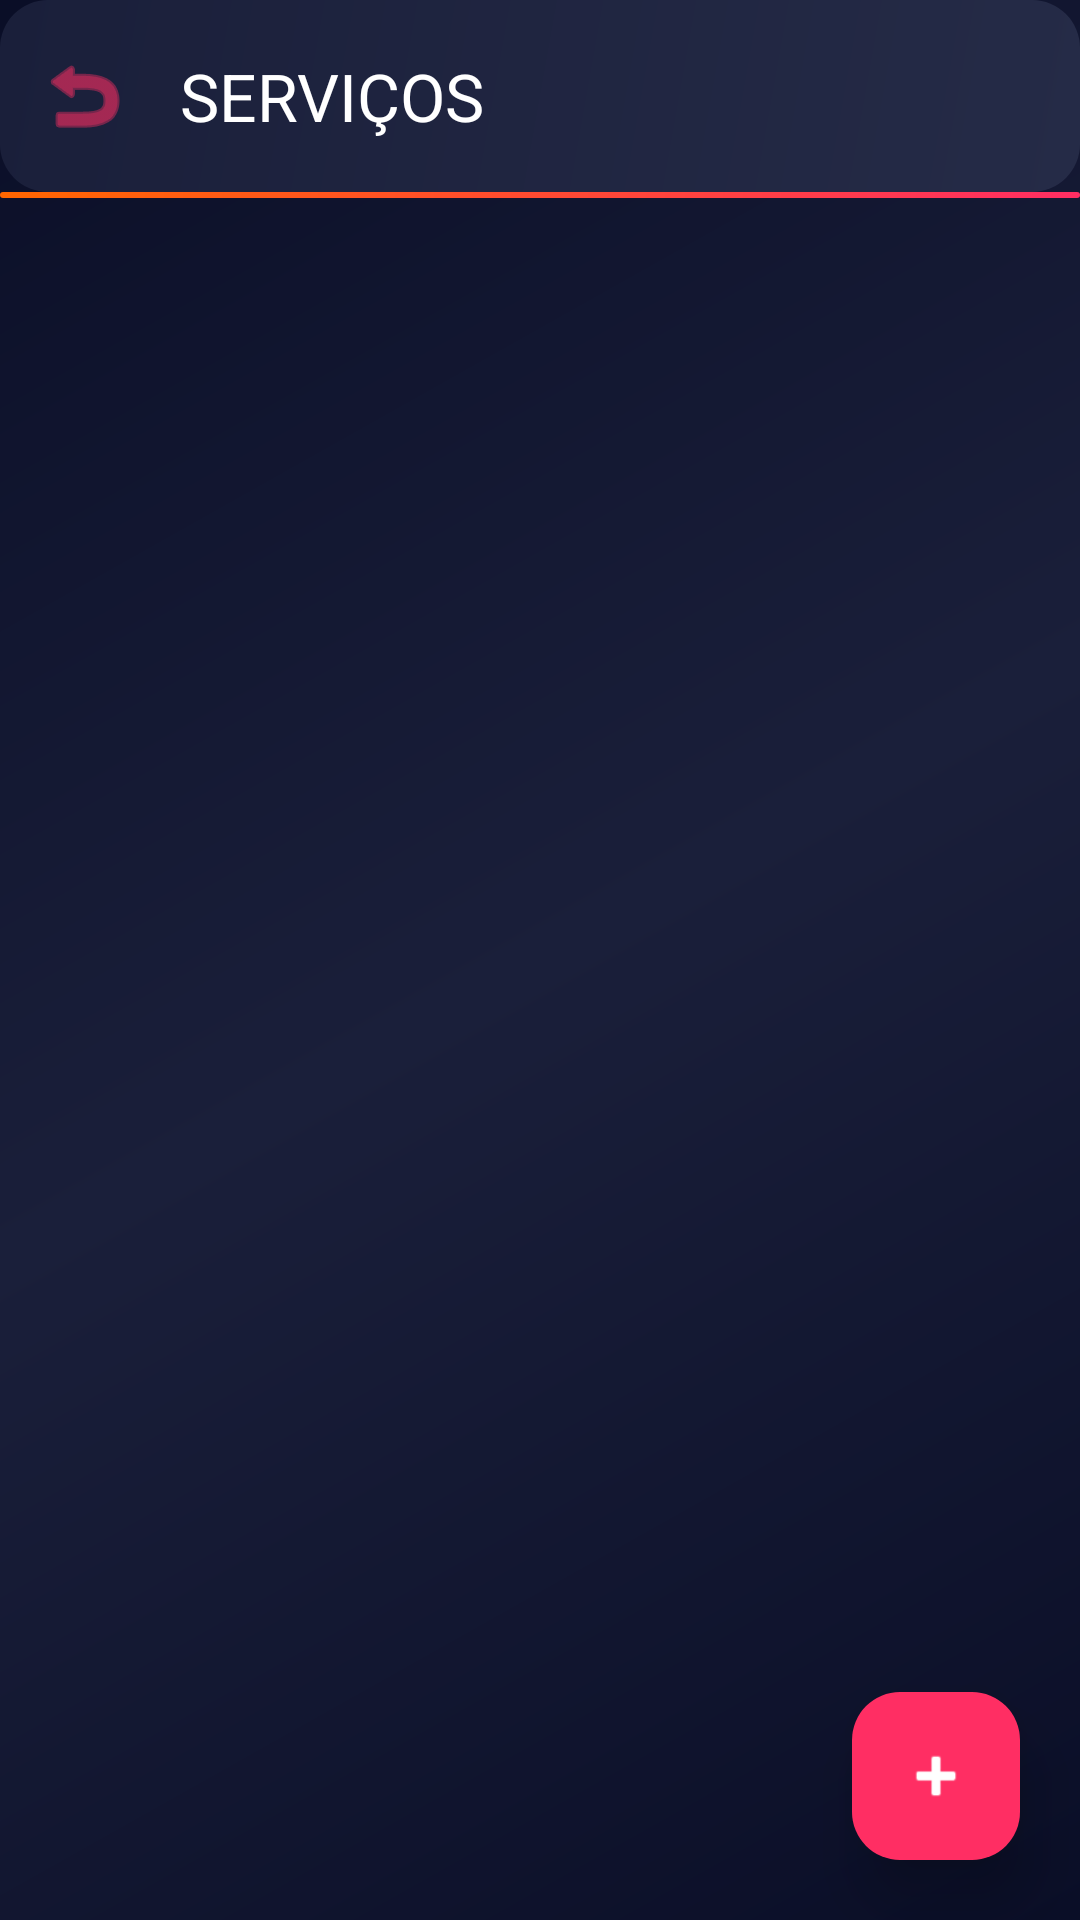

Where icons sit on this 1080 × 1920 app screen, as (left=x1, top=y1, right=x2, bottom=y2):
Adicionar Serviço: (left=852, top=1692, right=1020, bottom=1860)
